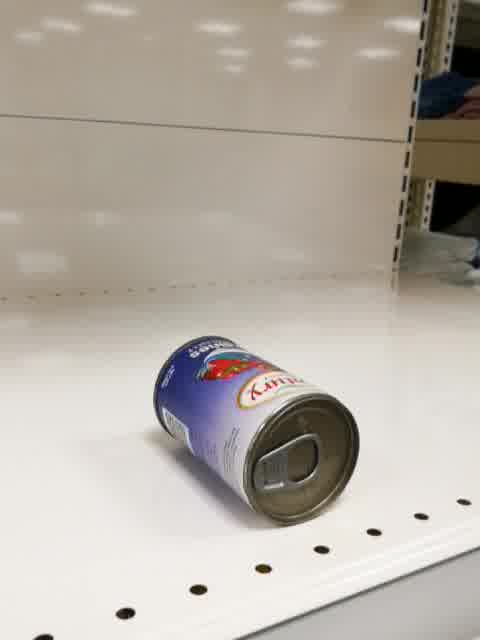sardine: (151, 335, 360, 526)
